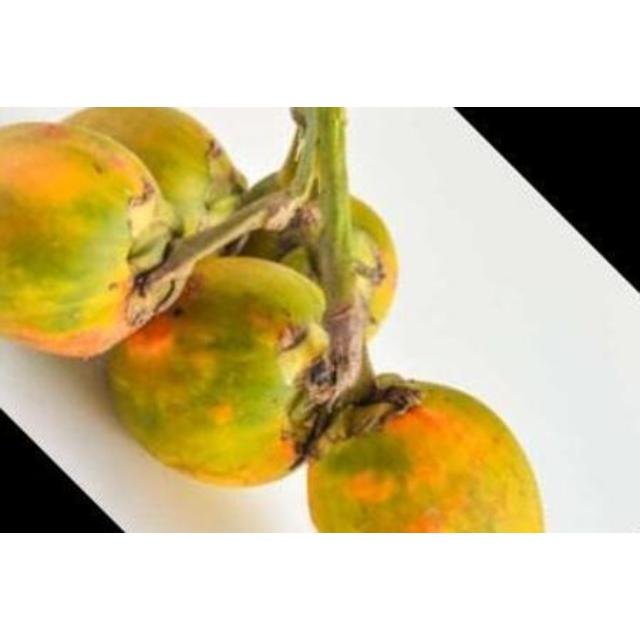good: (106, 258, 334, 488), (308, 379, 542, 533), (3, 124, 153, 348), (68, 108, 242, 240), (194, 256, 322, 324)
